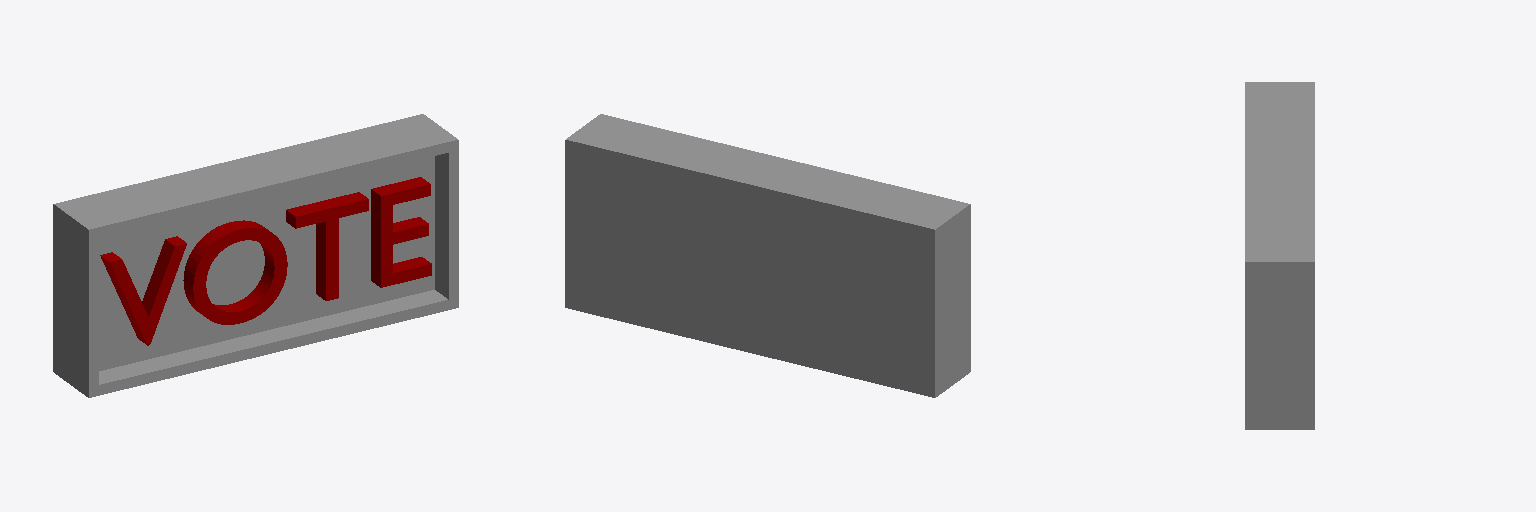
Rendered from vote.obj.
3 views of the same model, side by side, from view 1: azimuth 30°, elevation 25°; view 2: azimuth 150°, elevation 25°; view 3: azimuth 270°, elevation 25° (orthographic).
Visible parts, largest first — view 1: Cube_Cube.002; view 2: Cube_Cube.002; view 3: Cube_Cube.002.
Boxes of the visible parts, x1=… form: Cube_Cube.002: x1=53, y1=114, x2=458, y2=397; Cube_Cube.002: x1=565, y1=114, x2=970, y2=397; Cube_Cube.002: x1=1245, y1=82, x2=1314, y2=429.
Size of the model in its own units: 2 by 0.8704 by 0.3299.